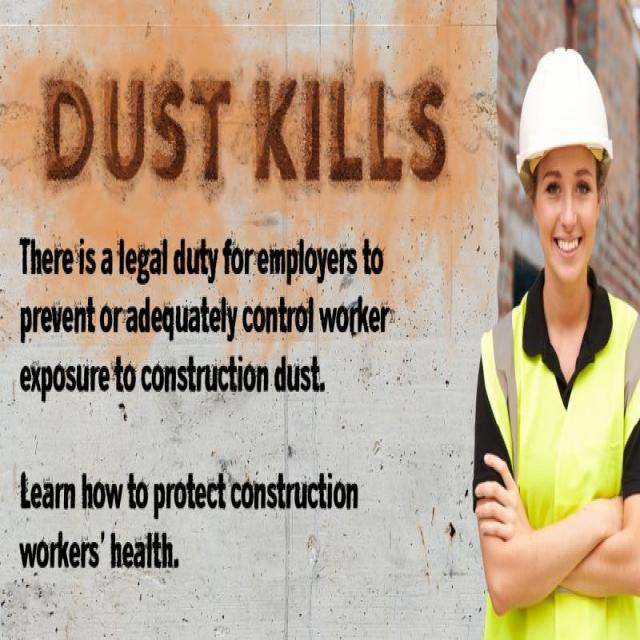helmet: (516, 44, 618, 176)
no-goggles: (528, 156, 613, 218)
vest: (479, 278, 640, 638)
